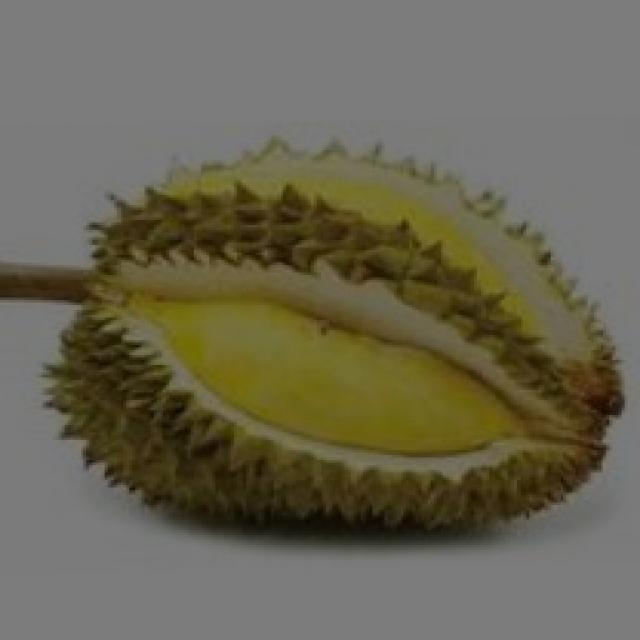fruit: (246, 195, 640, 595), (12, 250, 412, 575)
